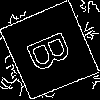B: (25, 25, 82, 75)
